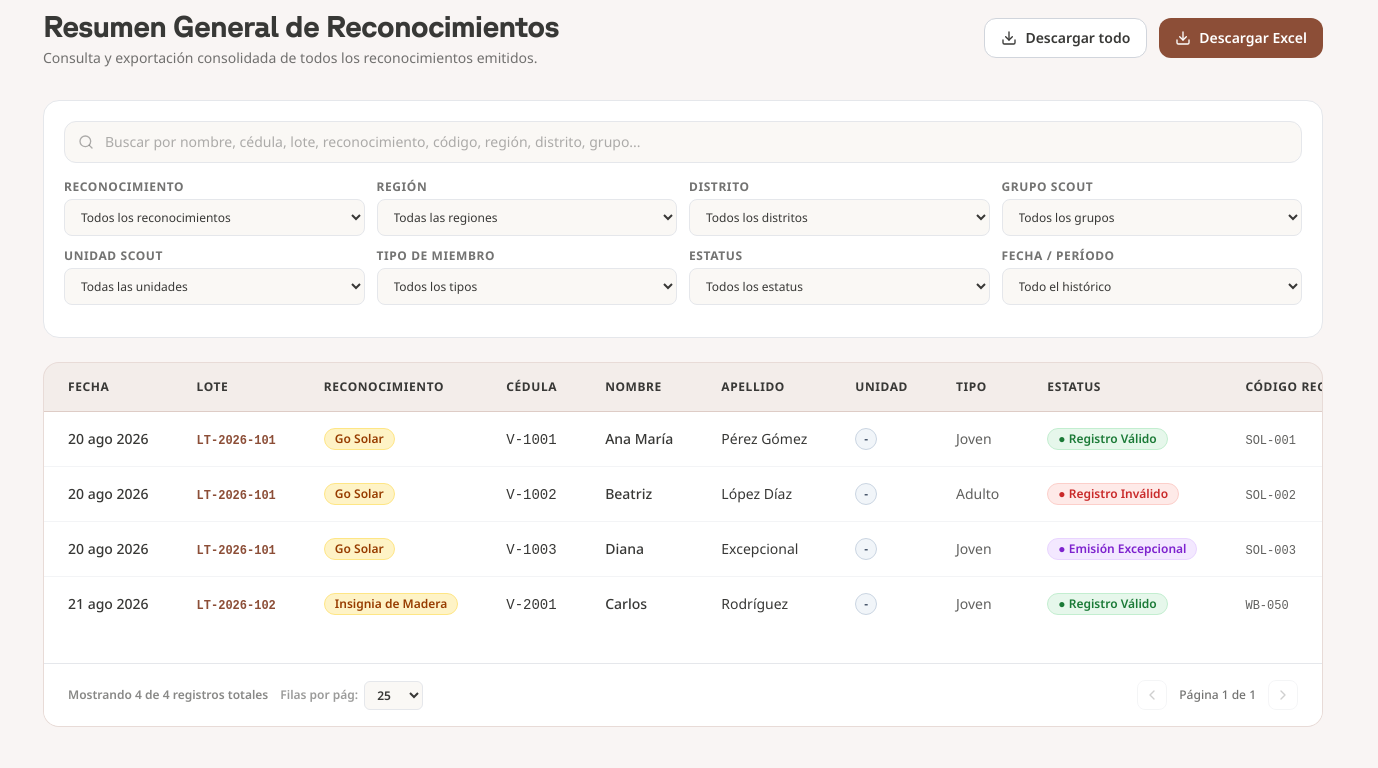
Test: SummaryView component › filters by recognition type dropdown
Expected: the text "V-1001" is shown, [506,432,557,448]
Note: Filter by Go Solar
Select "Go Solar" in the dropdown named "Filtrar por reconocimiento" at {"x": 214, "y": 218}, box [64,199,364,236]
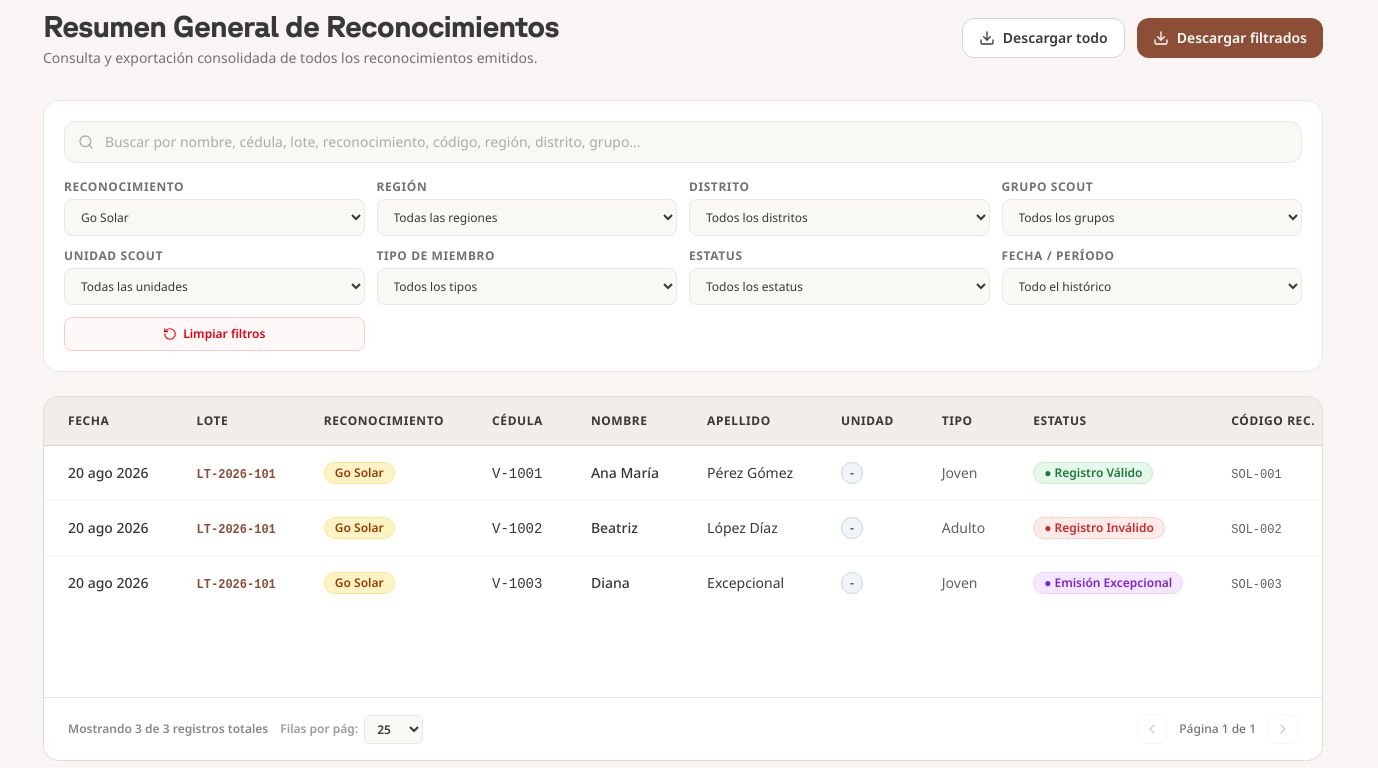
Expected: the text "V-1001" is shown, [492,466,542,482]
Expected: the text "V-2001" is gone
Note: Filter by Insignia de Madera
Select "Insignia de Madera" in the dropdown named "Filtrar por reconocimiento" at {"x": 214, "y": 218}, box [64,199,364,236]
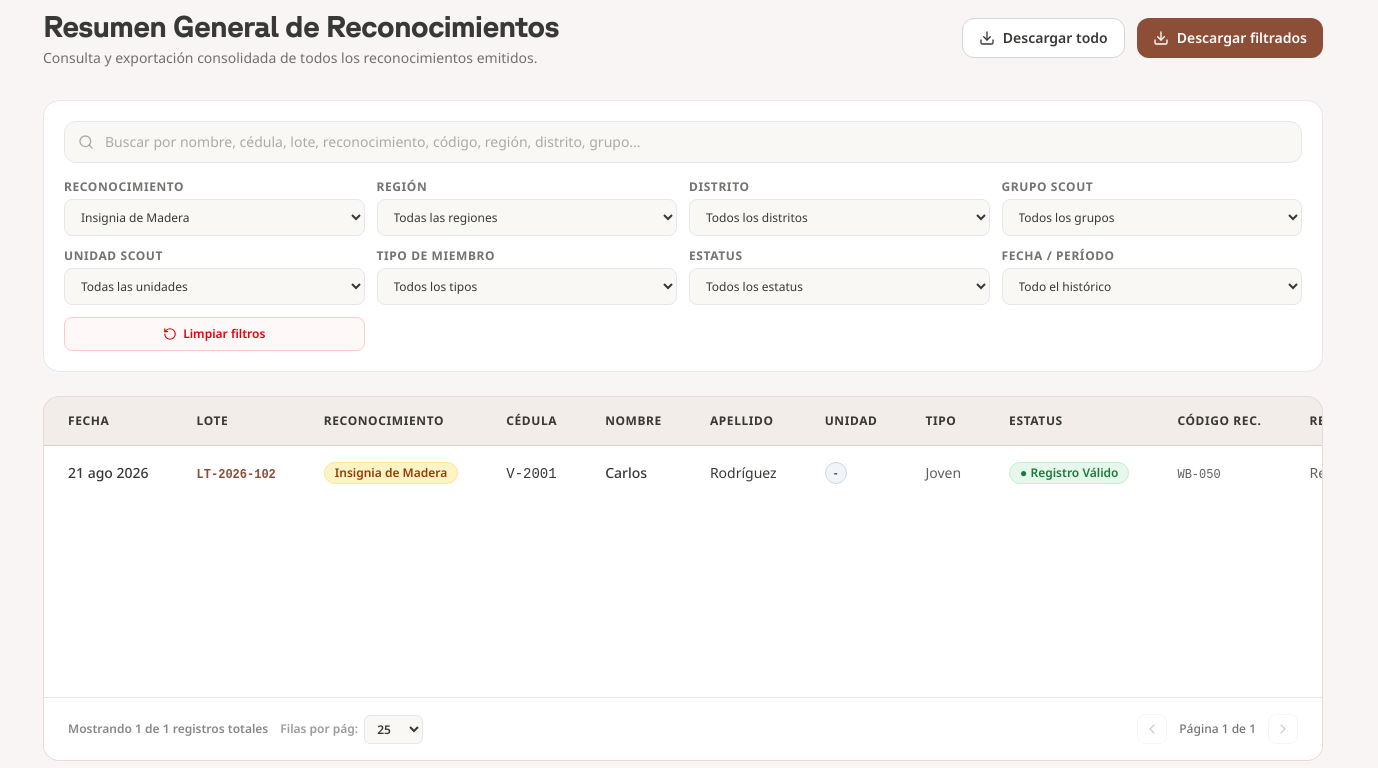
Expected: the text "V-2001" is shown, [506,466,557,482]
Expected: the text "V-1001" is gone
Expected: the text "V-1002" is gone
